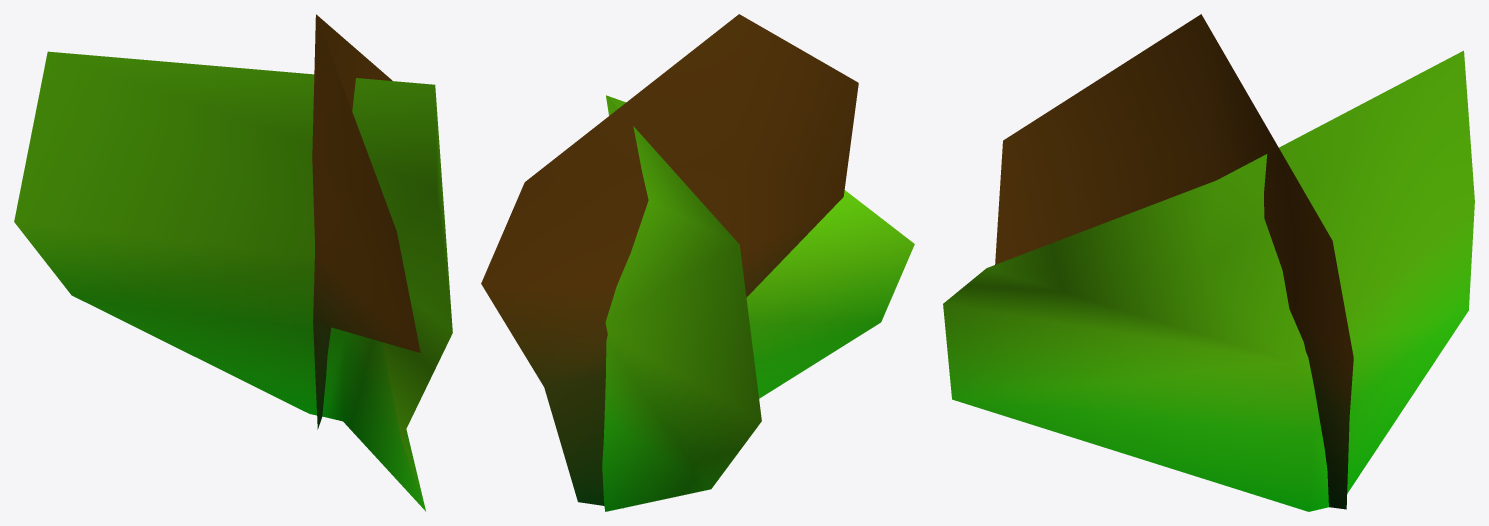
The model's file is Var1Hi6.fbx.
3 views of the same model, side by side, from view 1: azimuth 30°, elevation 25°; view 2: azimuth 150°, elevation 25°; view 3: azimuth 270°, elevation 25° (orthographic).
Visible parts, largest first — view 1: bend1; view 2: bend1; view 3: bend1.
Part boxes in pixels (left/top/right/bottom): bend1: left=14, top=14, right=452, bottom=511; bend1: left=481, top=14, right=914, bottom=511; bend1: left=943, top=14, right=1474, bottom=511.
Bounding box in the file's own units: 1.04 × 1.36 × 1.42.
